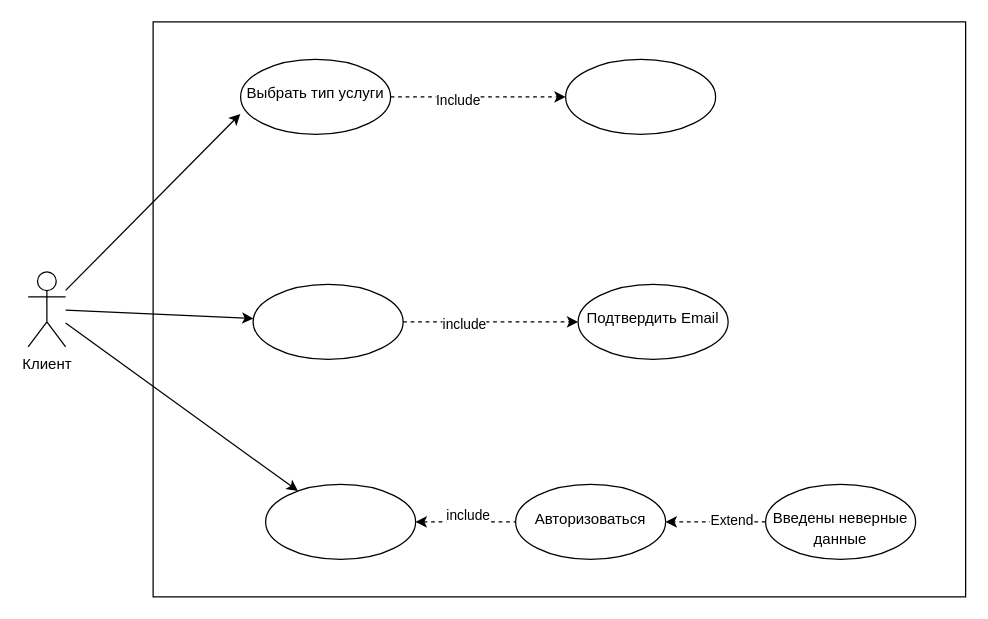
This 988x619 diagram has some shape labels left out. Here are the shapes that lost their labels. From the top down, the centre of each, then its label:
At [640,96]: "Забронировать".
At [327,321]: "Зарегистрироваться".
At [340,521]: "Просмотреть свою бронь".
